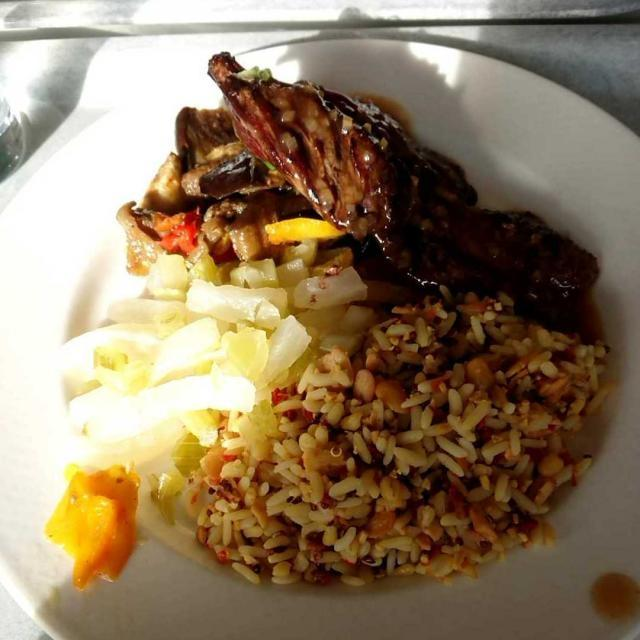beef: (212, 62, 617, 298)
cake: (70, 254, 338, 469)
mixed-vegetables: (119, 111, 349, 268)
rice: (186, 302, 610, 584)
sauce: (376, 248, 595, 332)
